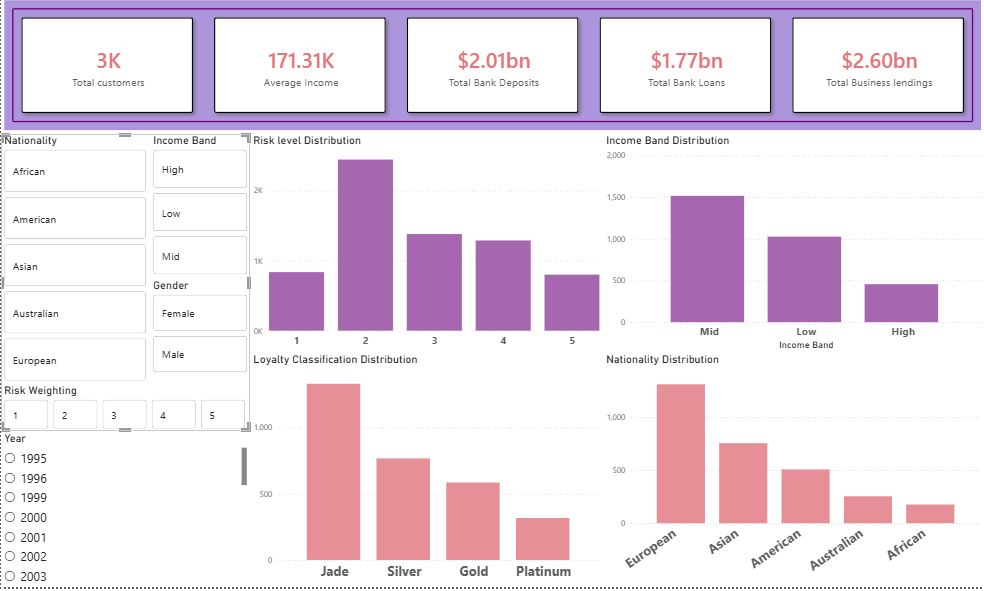

The dashboard page shown, as its layout file describes it:
{"tool":"powerbi","page":{"name":"Customer Overview Dashboard","canvas":[1500,900],"ordinal":0},"visuals":[{"type":"cardVisual","fields":{"Data":["CountNonNull(banking.Client ID)","Avg(banking.Estimated Income)","Sum(banking.Bank Deposits)","Sum(banking.Bank Loans)","Sum(banking.Business Lending)"]},"box":[0,0,1500,208.3],"z":0},{"type":"advancedSlicerVisual","fields":{"Values":["banking.GenderId"]},"box":[226.7,429.3,153.3,147.3],"z":0,"group":"g1"},{"type":"columnChart","title":"Risk level Distribution","fields":{"Y":["Sum(banking.Risk Weighting)"],"Category":["banking.Risk Weighting"]},"box":[380,208.3,538.3,335],"z":1000},{"type":"advancedSlicerVisual","fields":{"Values":["banking.Risk Weighting"]},"box":[0,589.4,380,73.3],"z":1000,"group":"g1"},{"type":"advancedSlicerVisual","fields":{"Values":["banking.Nationality"]},"box":[0,208.3,226.7,382.2],"z":2000,"group":"g1"},{"type":"columnChart","title":"Income Band Distribution","fields":{"Y":["CountNonNull(banking.Income Band)"],"Category":["banking.Income Band"]},"box":[918.3,208.3,581.7,335],"z":2000},{"type":"advancedSlicerVisual","fields":{"Values":["banking.Income Band"]},"box":[226.7,208.3,153.3,221],"z":3000,"group":"g1"},{"type":"columnChart","title":"Nationality Distribution","fields":{"Category":["banking.Nationality"],"Y":["CountNonNull(banking.Nationality)"]},"box":[918.3,543.3,581.7,356.7],"z":3000},{"type":"columnChart","title":"Loyalty Classification Distribution","fields":{"Y":["CountNonNull(banking.Loyalty Classification)"],"Category":["banking.Loyalty Classification"]},"box":[380,543.3,538.3,356.7],"z":4000},{"type":"group","id":"g1","title":"Group 1","box":[0,208.3,380,454.4],"z":5000},{"type":"listSlicer","fields":{"Values":["banking.Year"]},"box":[0,663.3,380,236.7],"z":6000}]}

Visuals, with their boxes in screenshot pixels (x1, y1, x2, y2), scaled from the page's 1500x900 canvas onto the 984x591 screenshot:
cardVisual - CountNonNull(banking.Client ID) x Avg(banking.Estimated Income): [x1=0, y1=0, x2=983, y2=137]
advancedSlicerVisual - banking.GenderId: [x1=149, y1=282, x2=249, y2=379]
"Risk level Distribution" columnChart: [x1=249, y1=137, x2=602, y2=357]
advancedSlicerVisual - banking.Risk Weighting: [x1=0, y1=387, x2=249, y2=435]
advancedSlicerVisual - banking.Nationality: [x1=0, y1=137, x2=149, y2=388]
"Income Band Distribution" columnChart: [x1=602, y1=137, x2=983, y2=357]
advancedSlicerVisual - banking.Income Band: [x1=149, y1=137, x2=249, y2=282]
"Nationality Distribution" columnChart: [x1=602, y1=357, x2=983, y2=590]
"Loyalty Classification Distribution" columnChart: [x1=249, y1=357, x2=602, y2=590]
"Group 1" group: [x1=0, y1=137, x2=249, y2=435]
listSlicer - banking.Year: [x1=0, y1=436, x2=249, y2=590]
